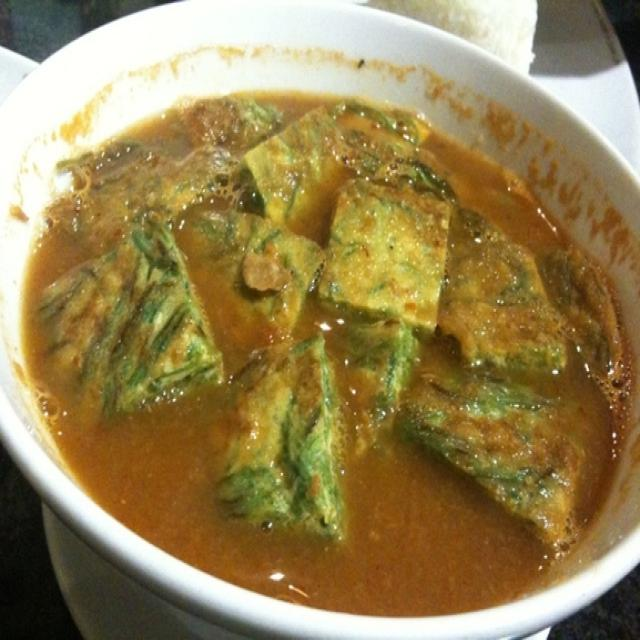汤锅炖物: (10, 11, 636, 626)
